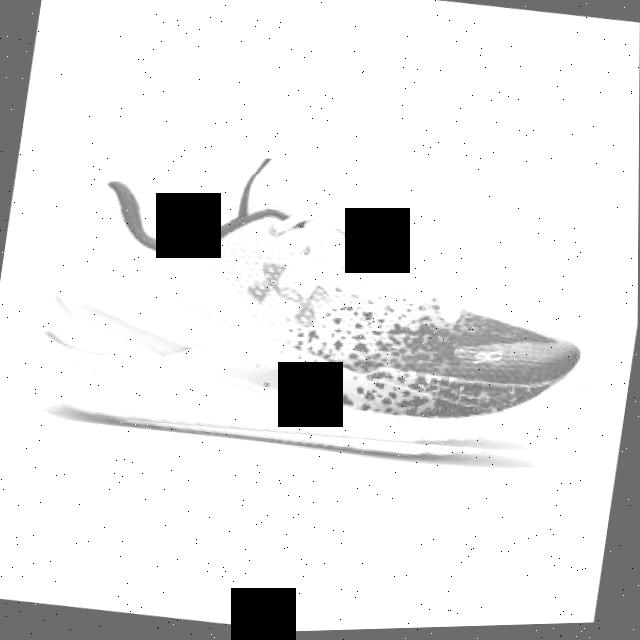shoe: (17, 123, 620, 491)
